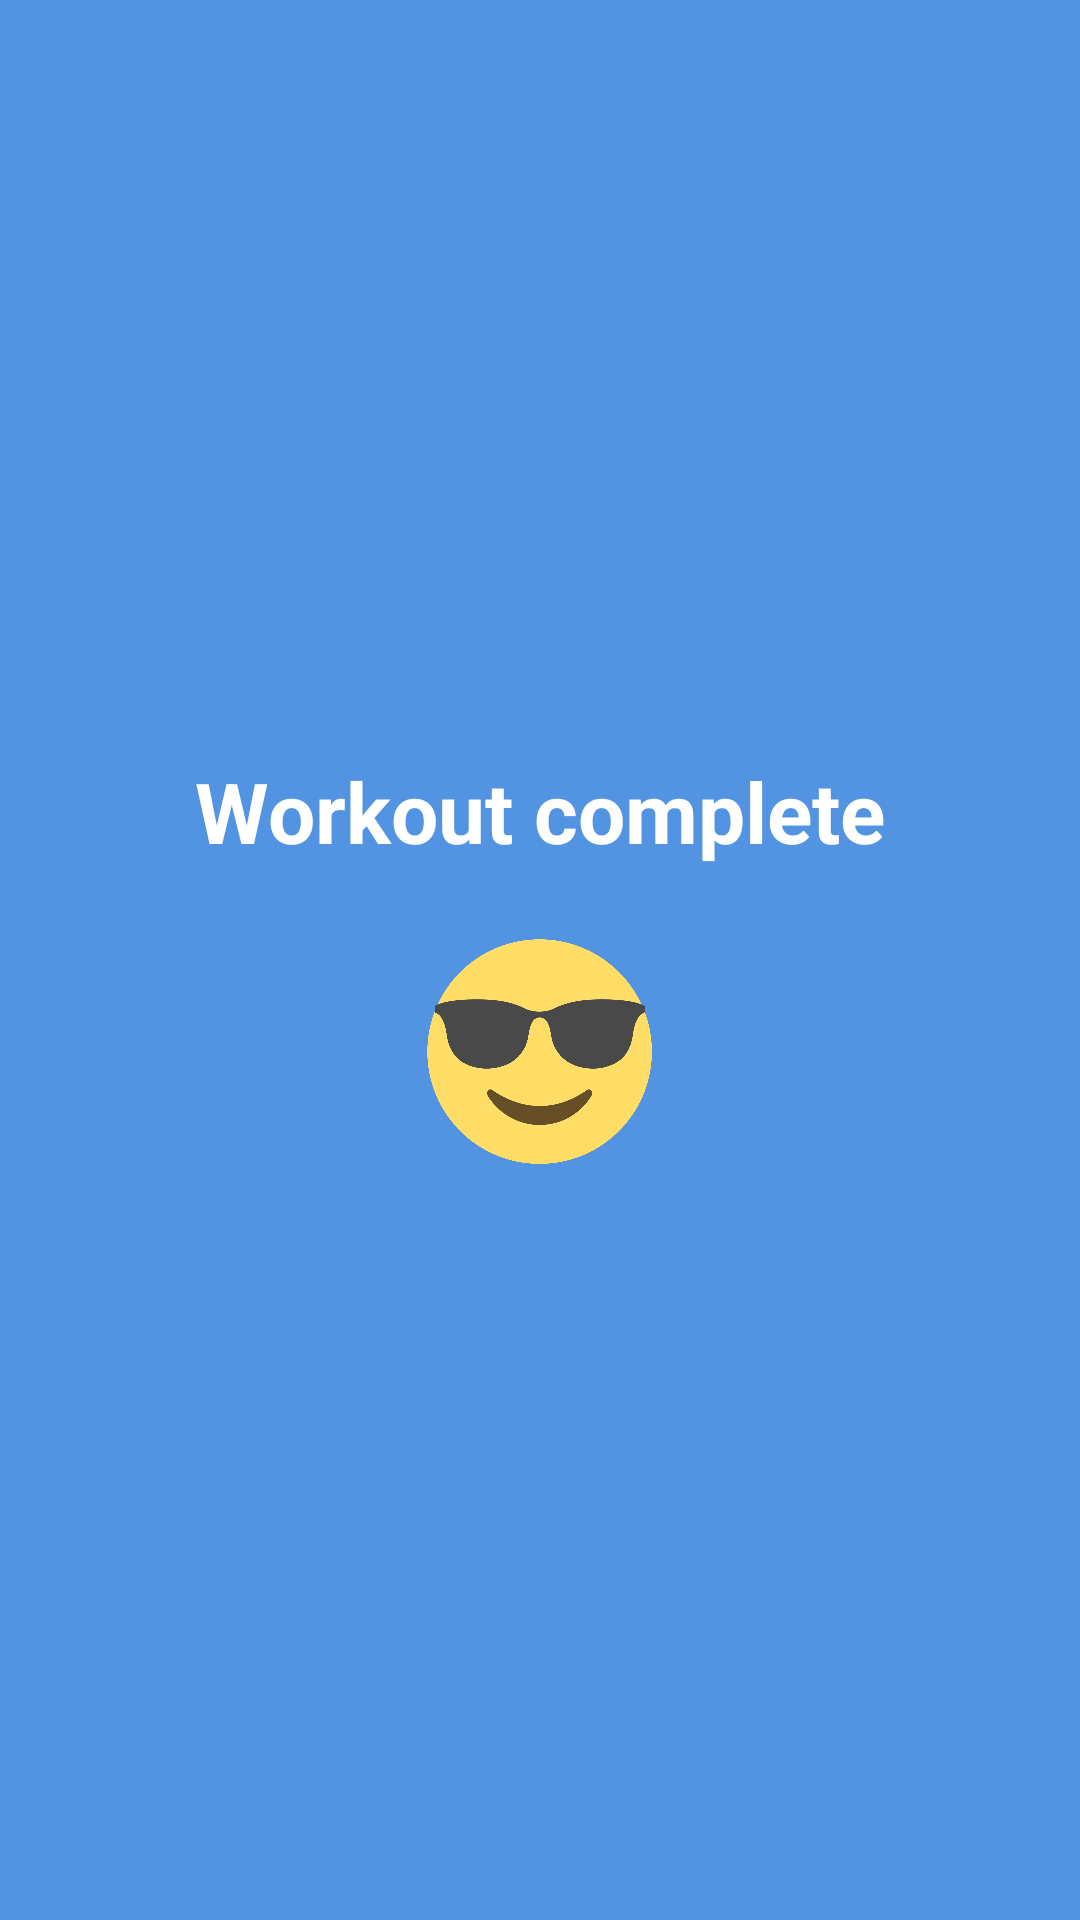

Locate icon controls on the screen. Image size 1080×1920, boxes as (x1, y1, x2, y2).
sunglasses: (427, 939, 652, 1164)
